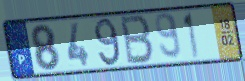1: (182, 9, 201, 61)
4: (66, 21, 91, 68)
8: (30, 22, 63, 72)
9: (92, 17, 122, 68), (155, 12, 184, 64)
B: (119, 14, 155, 67)
